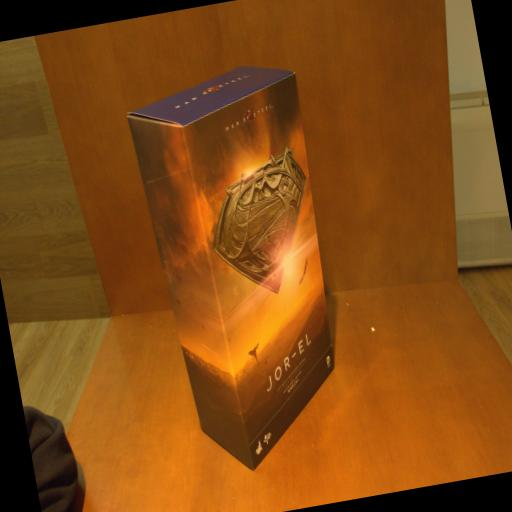superman: (122, 56, 362, 480)
